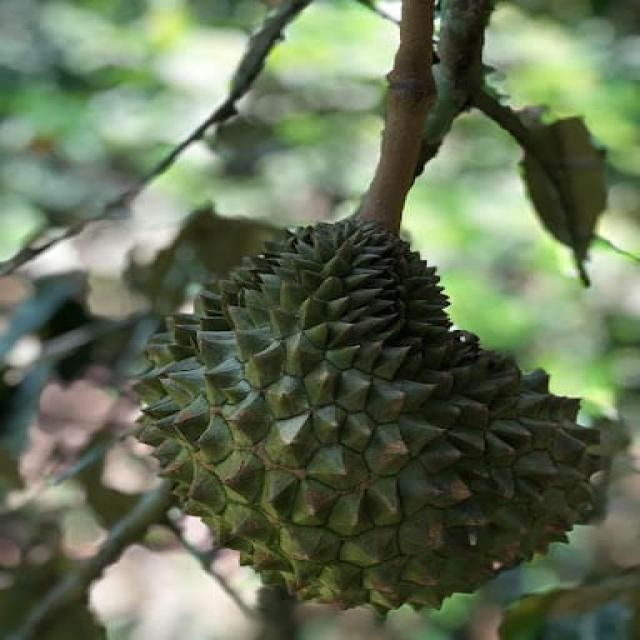immature: (129, 219, 603, 620)
